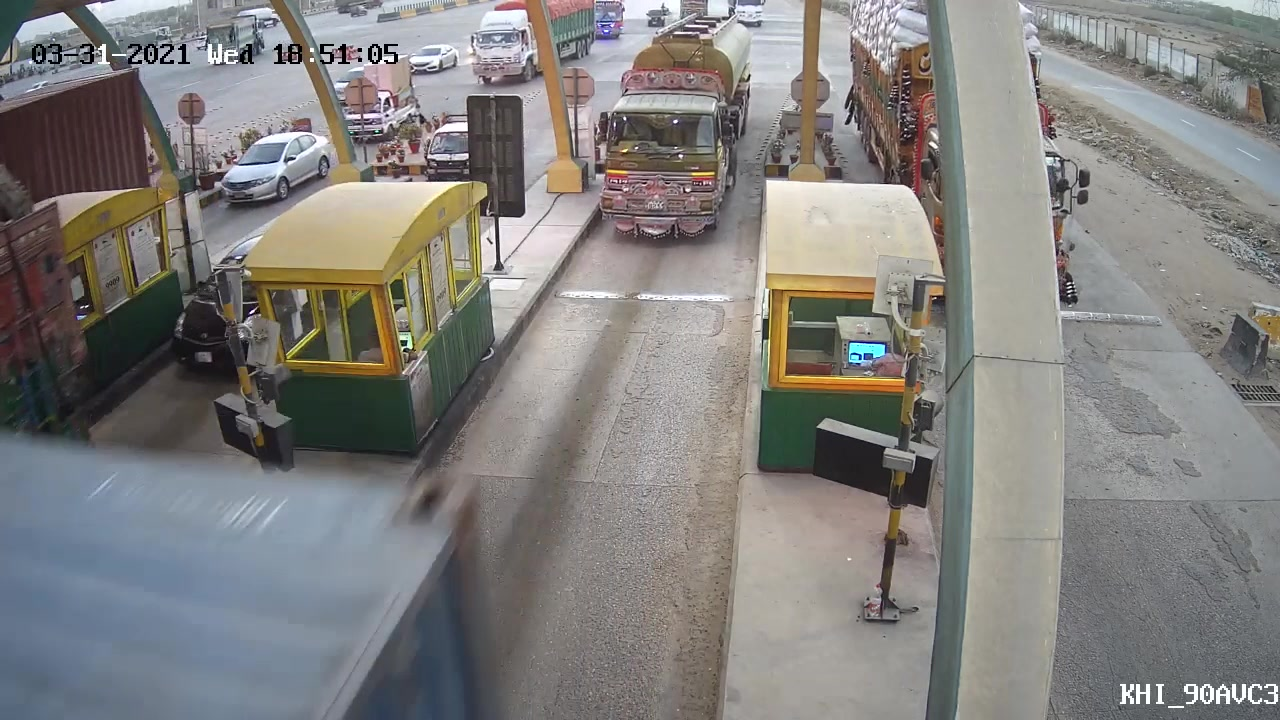F6: (587, 20, 753, 250)
